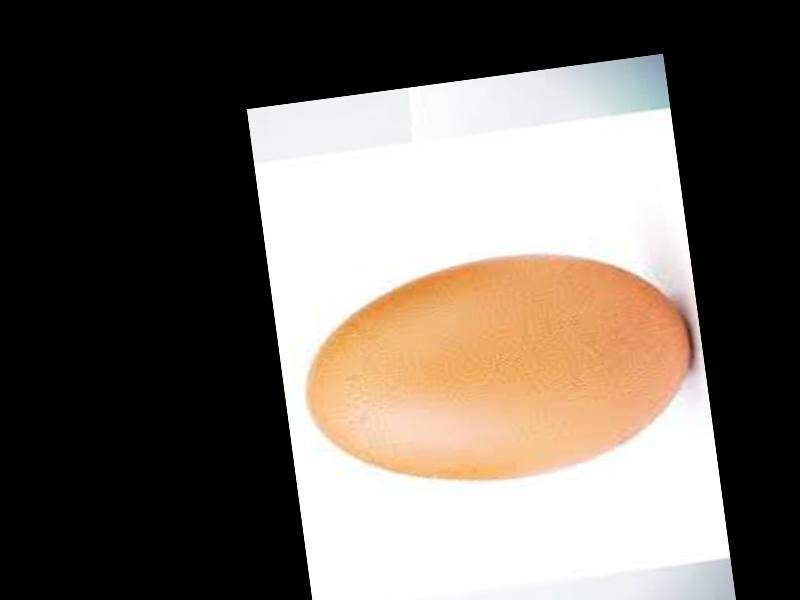Eggs: (293, 234, 704, 503)
